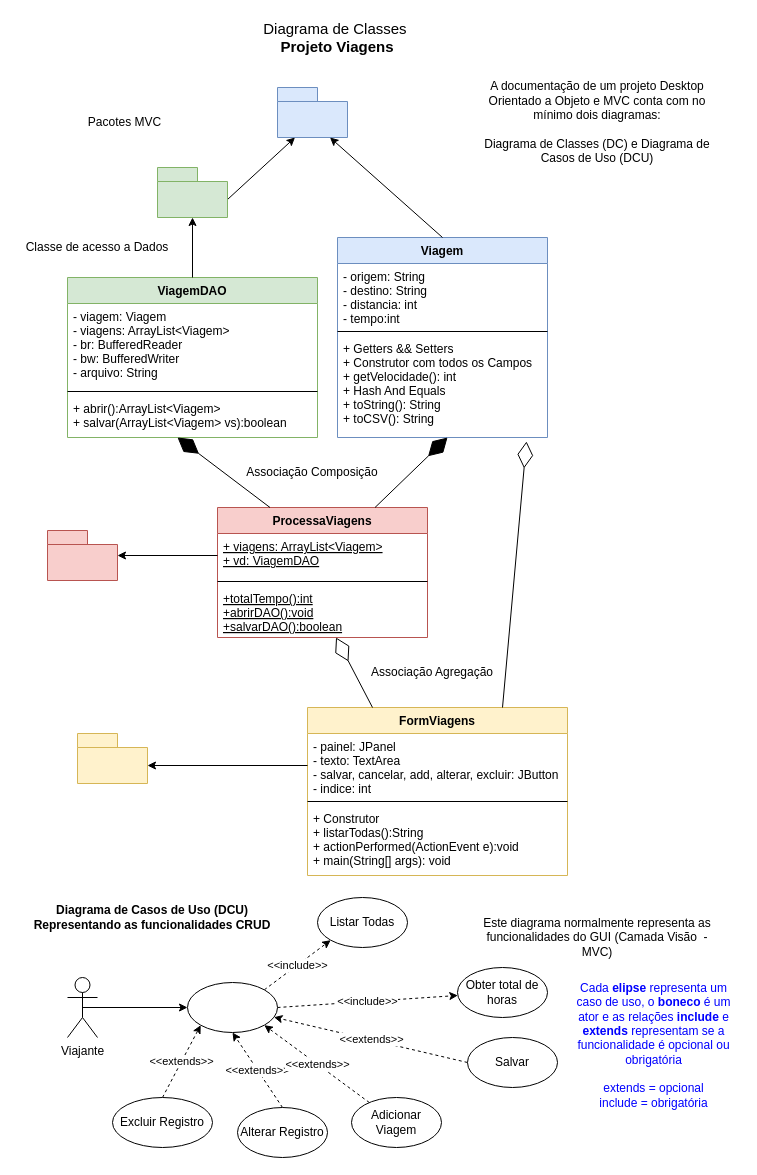
Some shapes in this 757 by 1175 pixel diagram are drawn without their labels. Here are the shapes that lost their labels. From the top down, the centre of each, then its label:
[312,112]: modelo
[192,192]: dao
[82,555]: controle
[112,758]: visao
[232,1007]: Administrar Viagens
